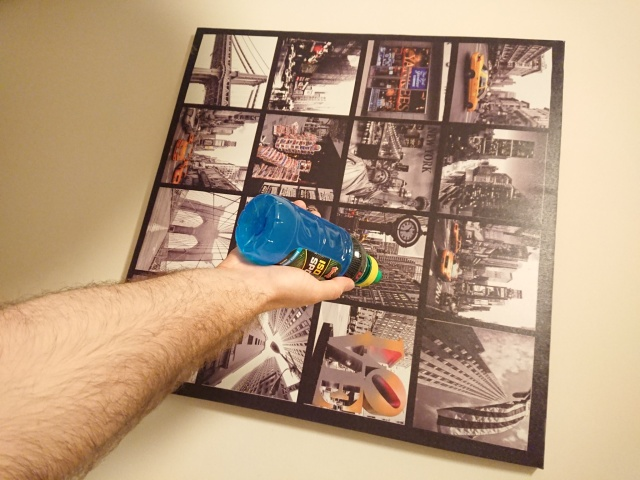Vindi Iso Sport Forest Strawberries 500mL: (233, 191, 384, 288)
